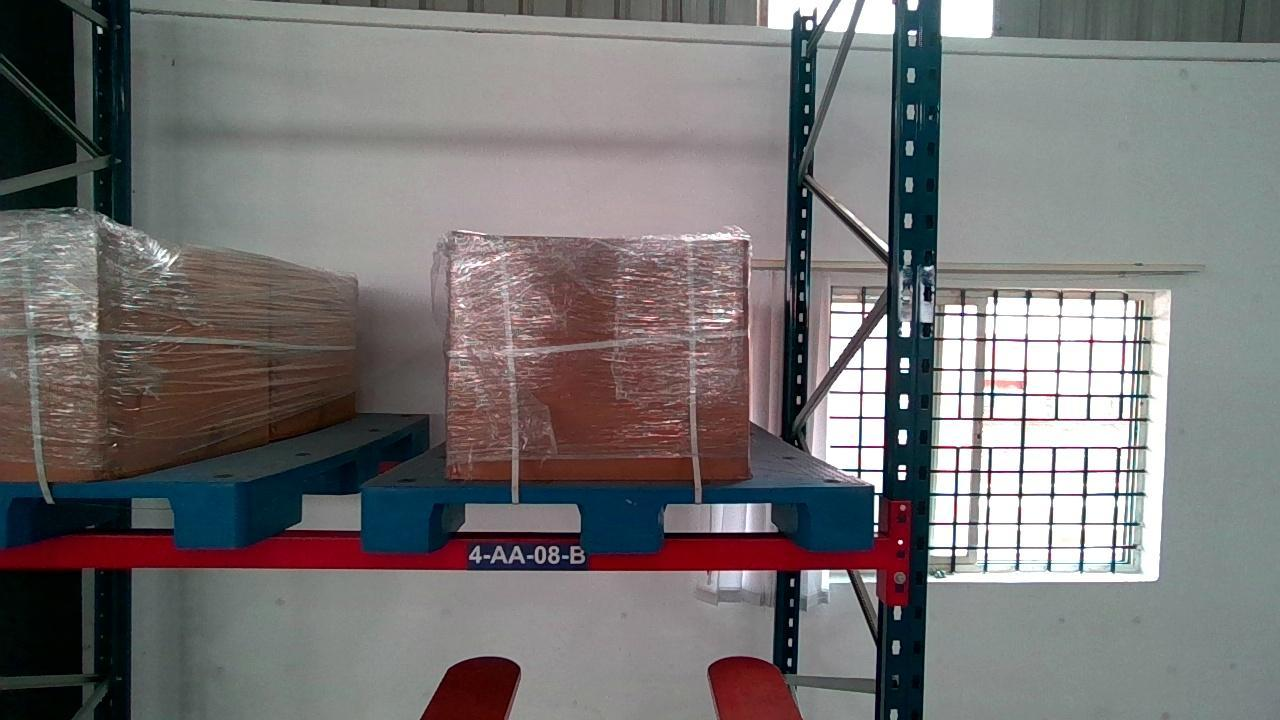h_rack: (0, 535, 891, 569)
small_pallet: (359, 487, 871, 551)
